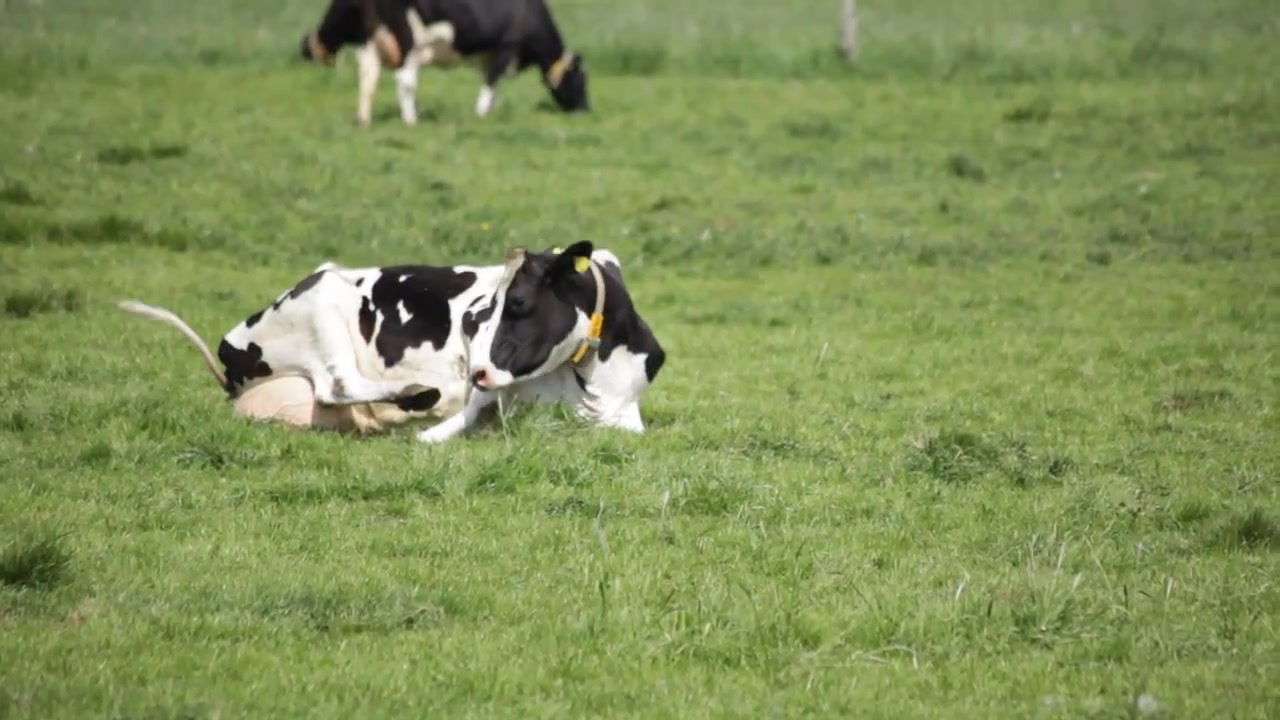cow: (120, 237, 669, 442)
